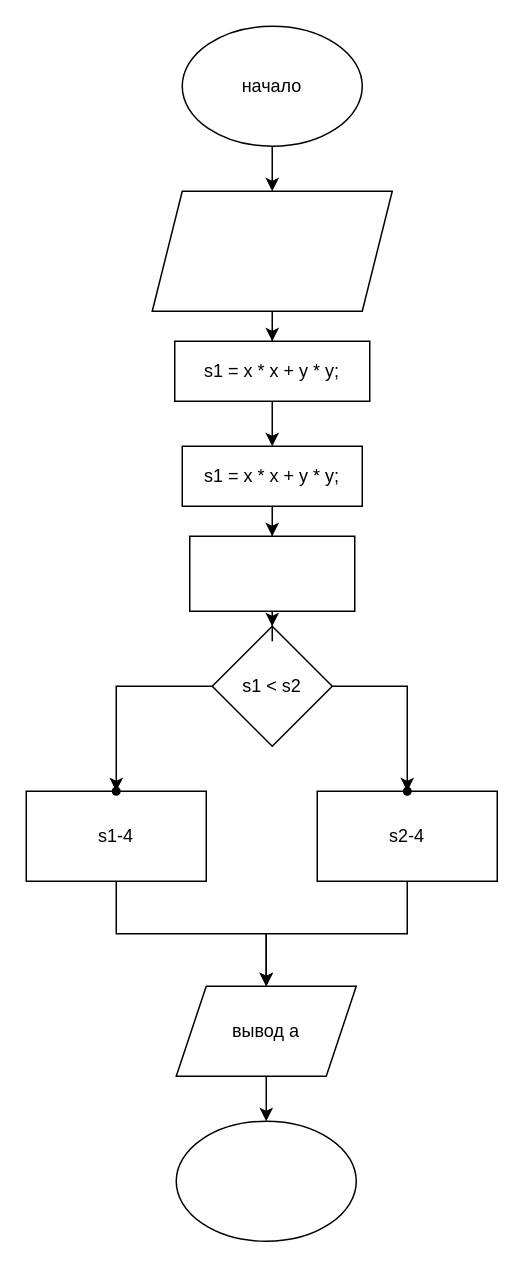
Image size: 524x1268. Some labels were removed from this diagram. Each missing label, with the centre of its shape:
a = (s1 < s2) ? s1 : s2; a -= 4;: (271,573)
ввод переменных:x, y, a, s1, s2: (271,250)
конец: (265,1180)
